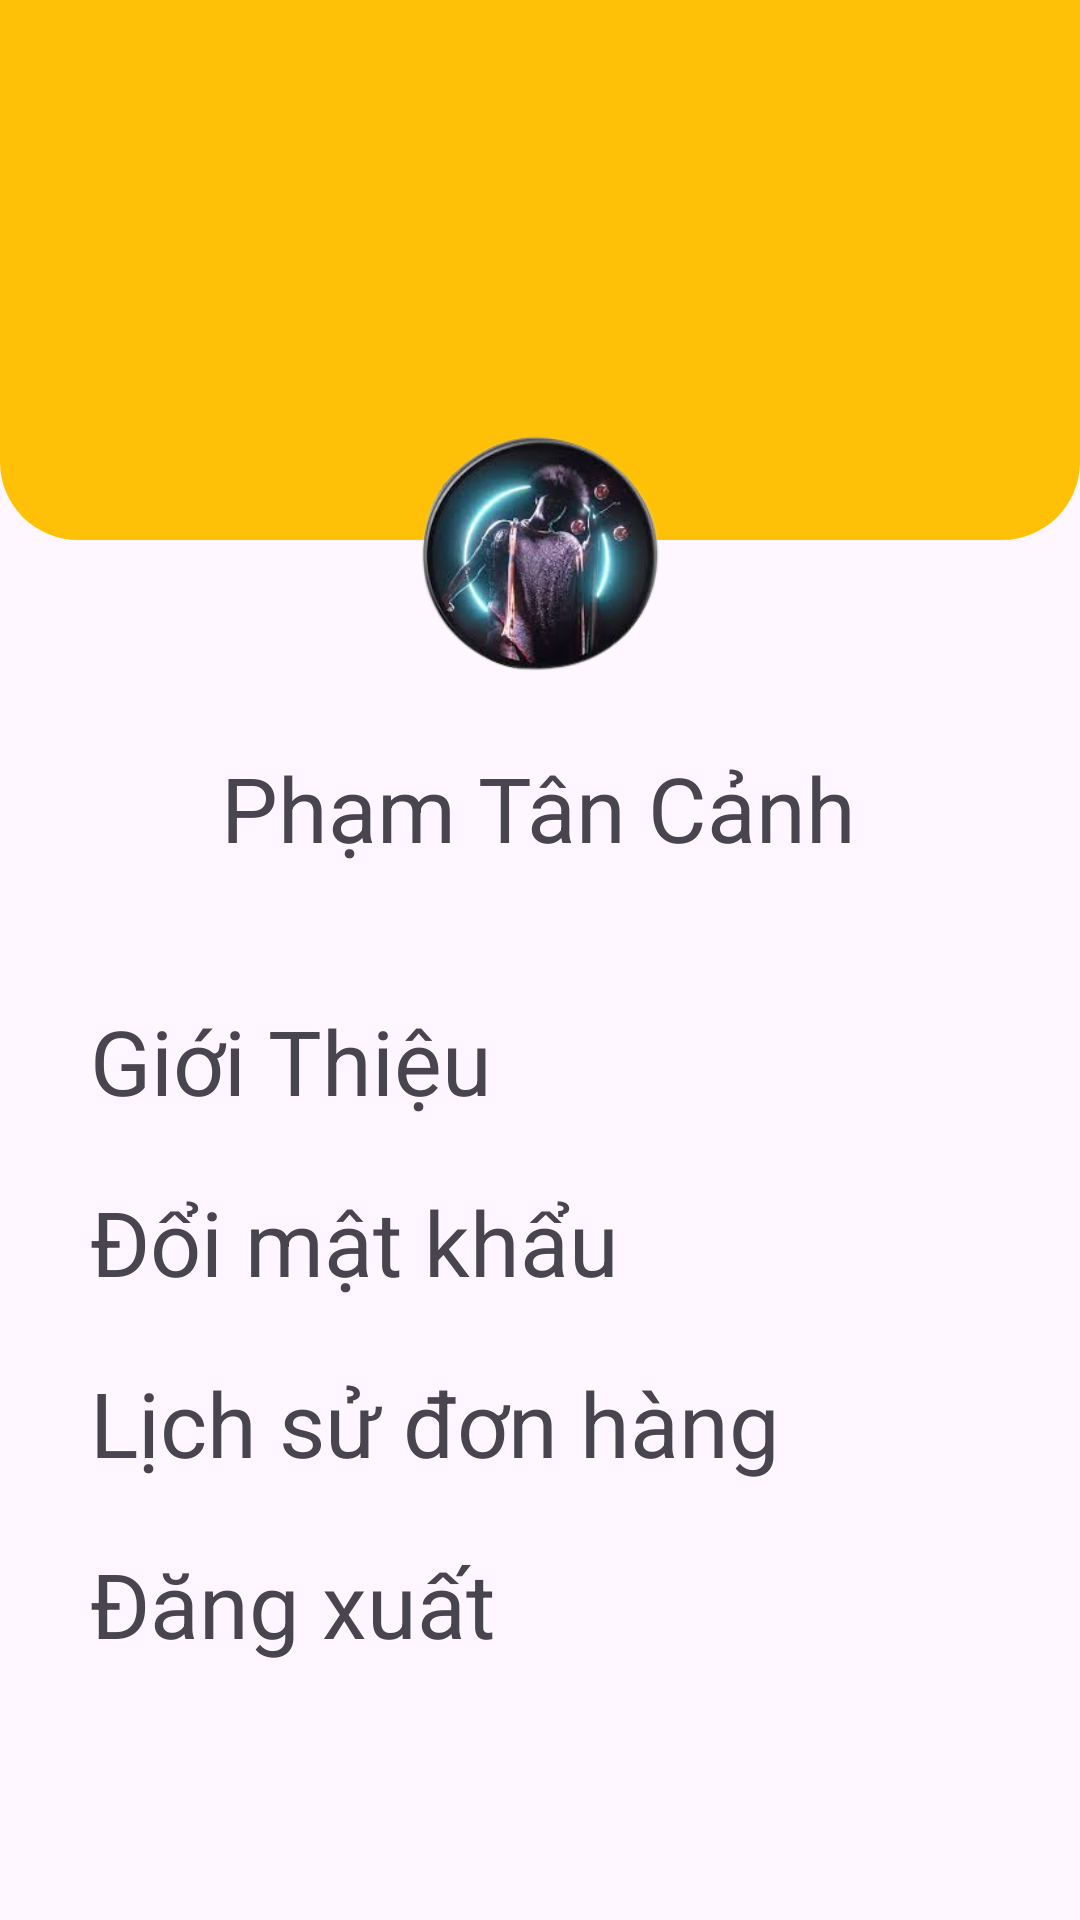

Where to tap for icons on this 1080 x 1920 app screen, as point (x, y):
use tk: point (540, 555)
